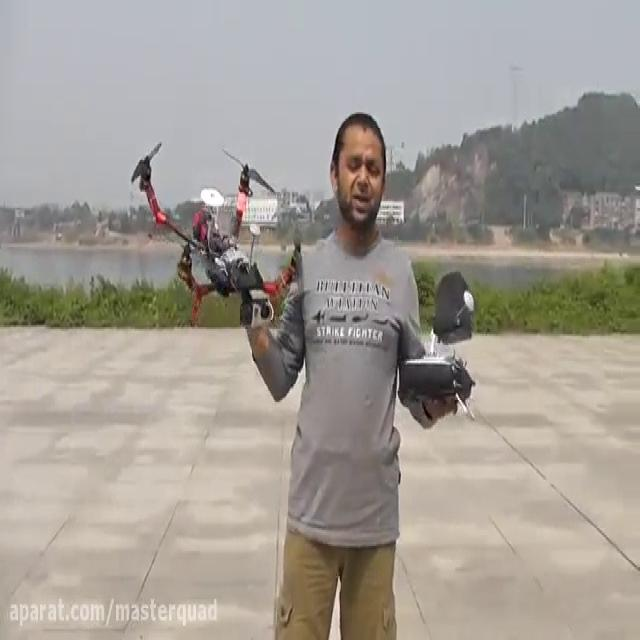drone: (127, 139, 305, 345)
